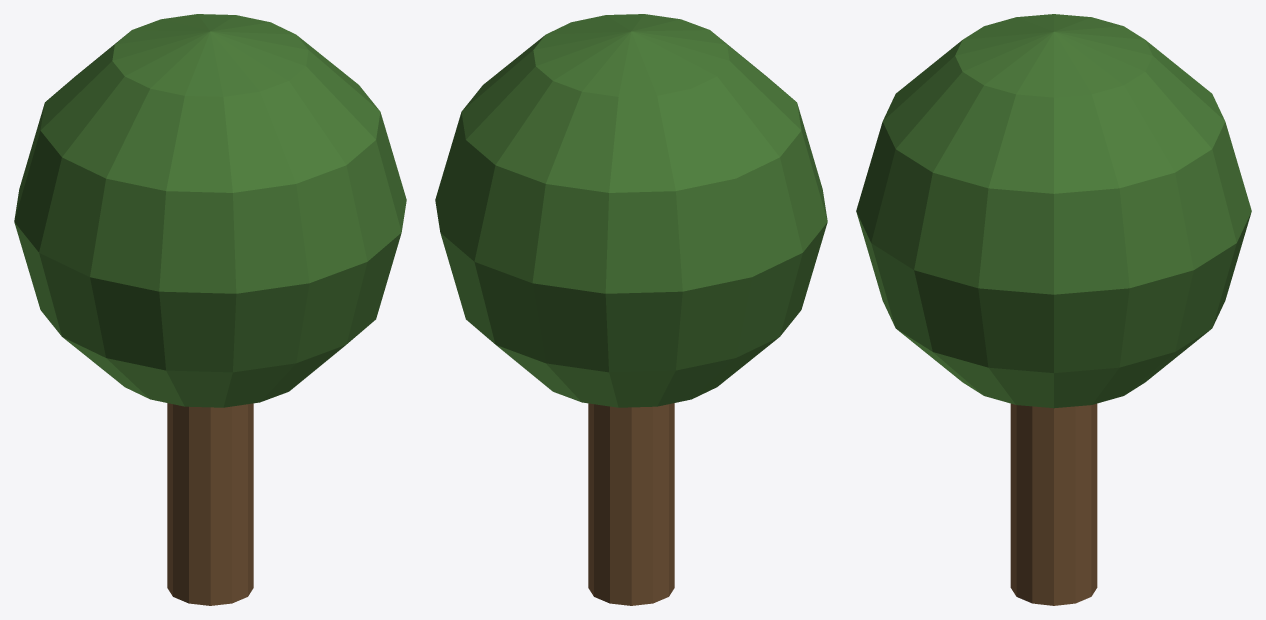
The model's file is tree_2.LZF50KCw.glb.
The picture shows the model from 3 angles, left to right: view 1: azimuth 30°, elevation 25°; view 2: azimuth 150°, elevation 25°; view 3: azimuth 270°, elevation 25°; orthographic projection.
Parts seen in each view (by area): view 1: Kugel, Zylinder; view 2: Kugel, Zylinder; view 3: Kugel, Zylinder.
Boxes of the visible parts, x1,y1,x2,y2 form: Kugel: (14,14,406,407); Zylinder: (167,403,253,605); Kugel: (435,14,827,407); Zylinder: (588,403,674,605); Kugel: (856,14,1251,408); Zylinder: (1010,403,1097,605).
Bounding box in the file's own units: 0.5714 × 0.8857 × 0.5714.
